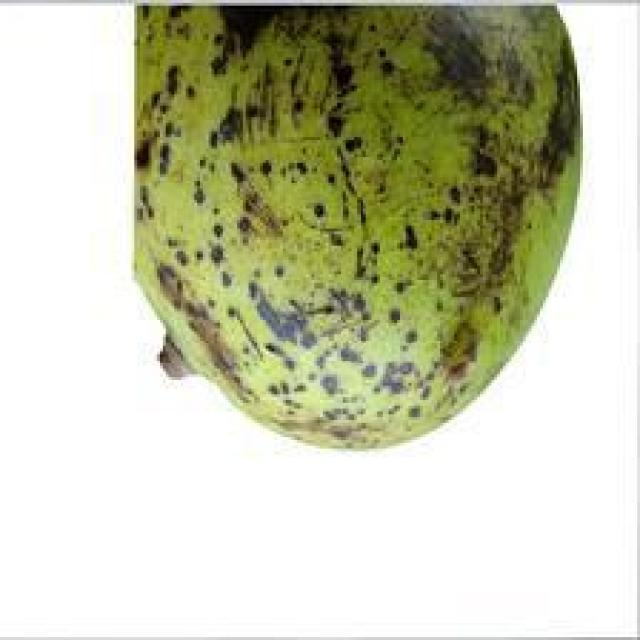Mango: (128, 7, 594, 430)
